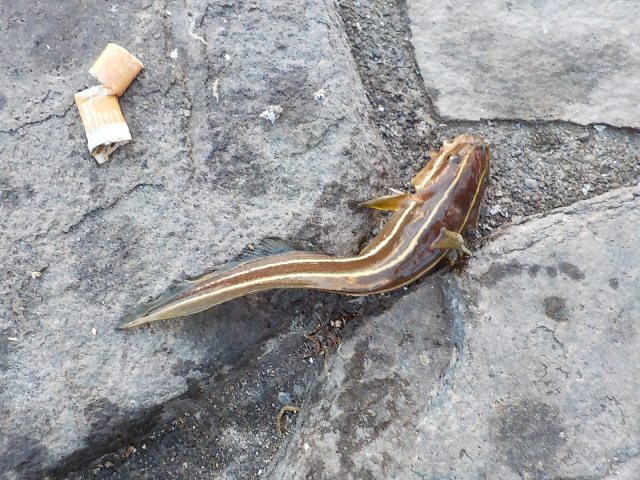gonzui: (97, 133, 511, 347)
